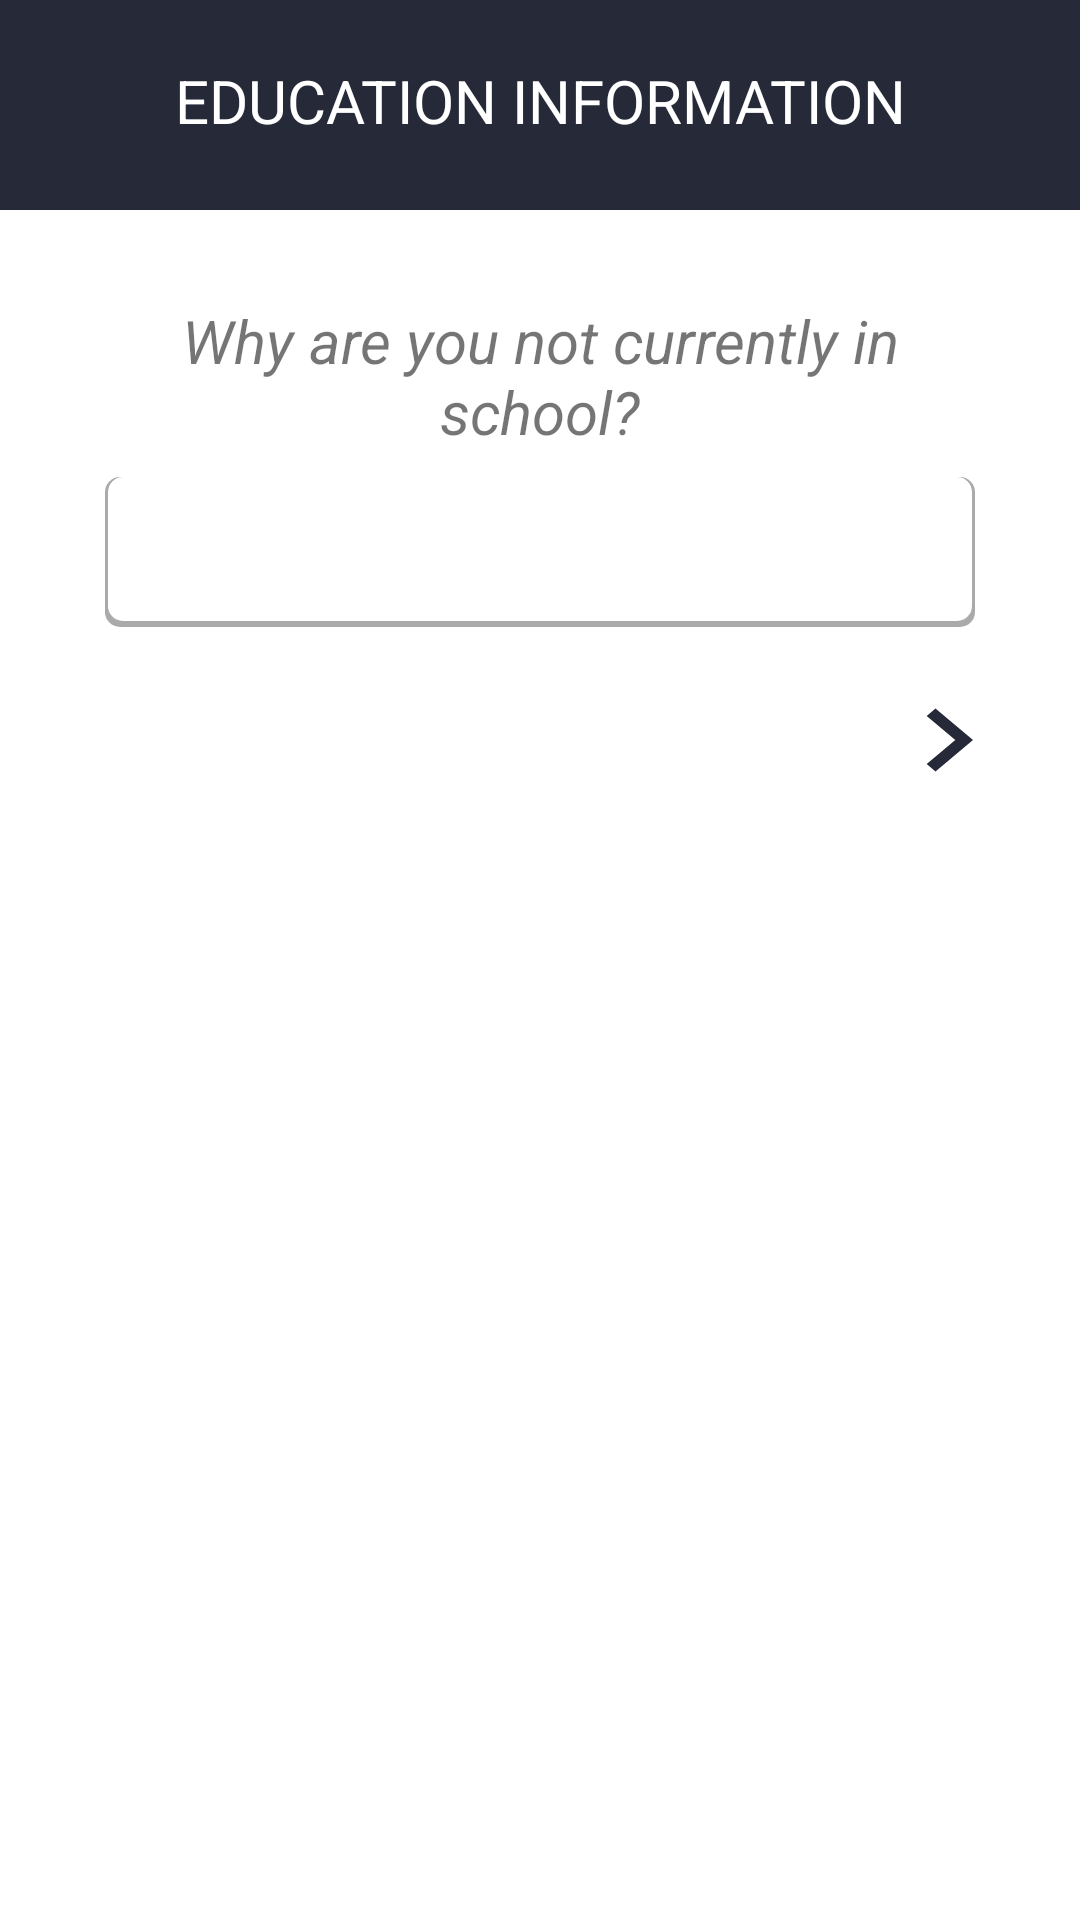

Where to tap for icons on this 1080x1920 app screen, as [x,y]:
navigate next: [950,740]
